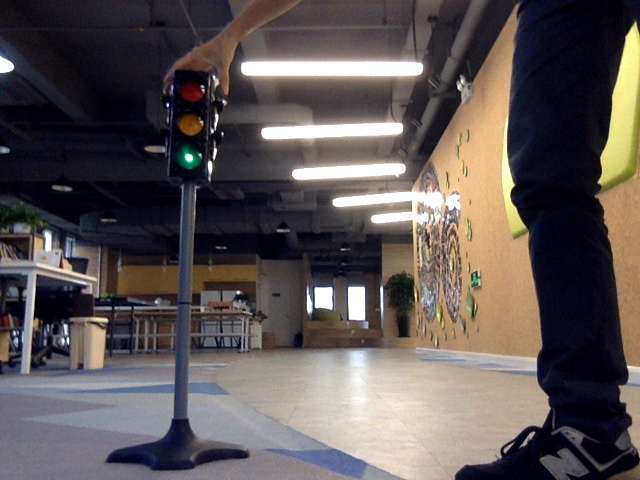green: (169, 75, 210, 172)
